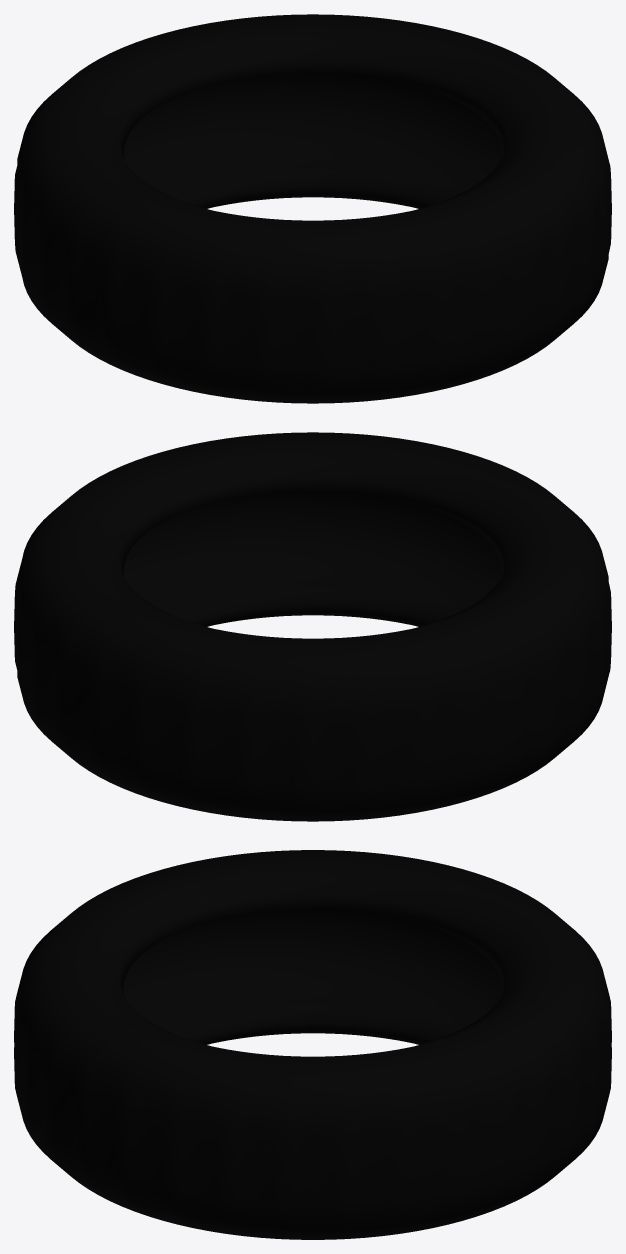
The model's file is obj_tire.glb.
The picture shows the model from 3 angles, top to bottom: view 1: azimuth 30°, elevation 25°; view 2: azimuth 150°, elevation 25°; view 3: azimuth 270°, elevation 25°; orthographic projection.
Visible parts, largest first — view 1: tire_body; view 2: tire_body; view 3: tire_body.
Part boxes in pixels (x1,y1,x2,y2): tire_body: [14, 14, 611, 403]; tire_body: [14, 432, 611, 821]; tire_body: [14, 850, 611, 1239].
Size of the model in its own units: 0.6306 by 0.192 by 0.6306.
1 material, 1 textured.
